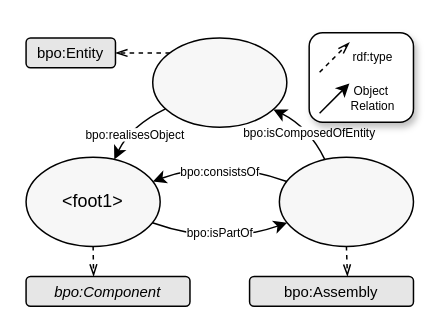
Image size: 448x332. Some labels were removed from this diagram. The shapes that lost their labels are listed below. From the top down, each one's centre as x and y in pixels, then its label:
At [219,82]: "<entity1Of Foot1>".
At [345,201]: "<frame1>".
